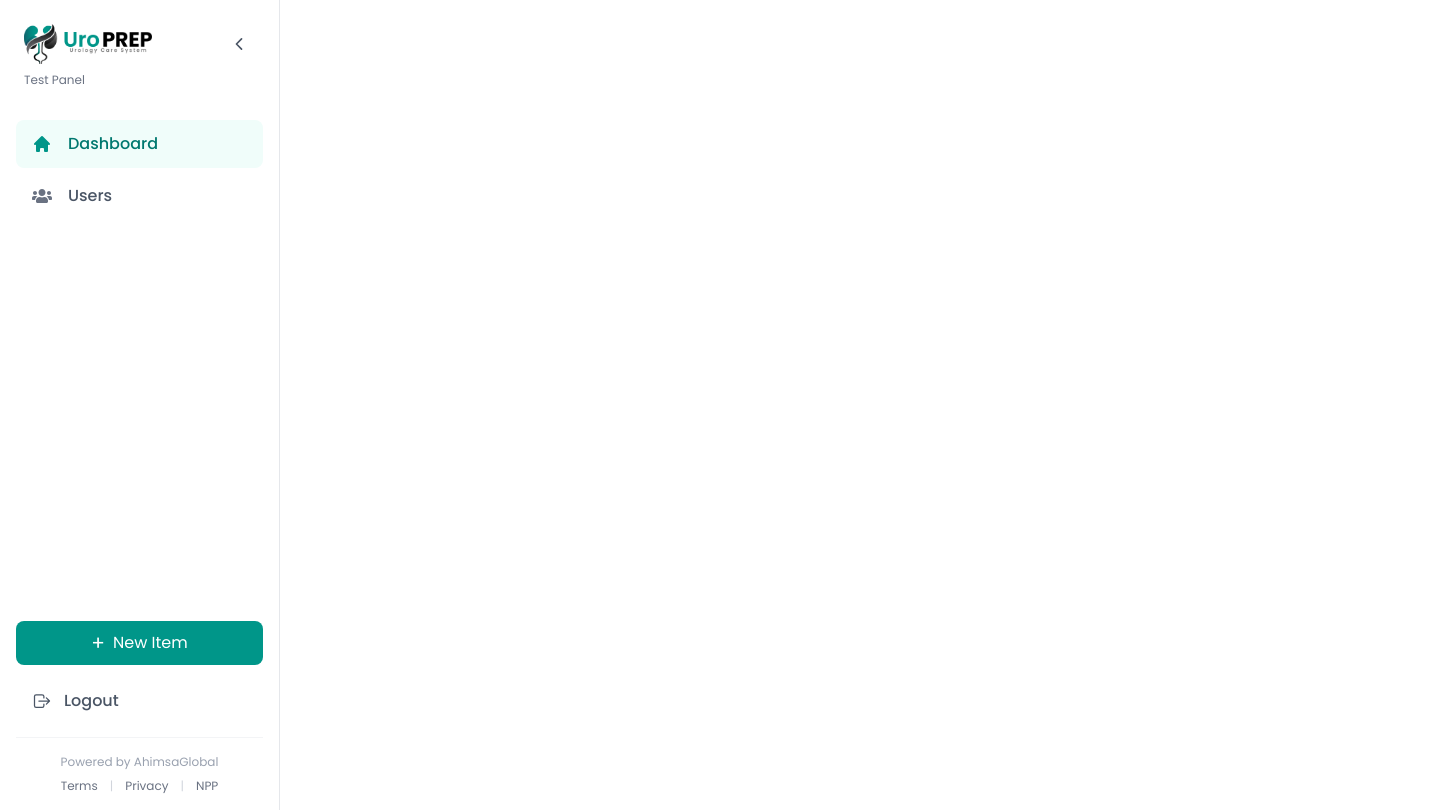
it: BaseSidebar › closes NPP modal when close button is clicked
Click the button "NPP" at [207, 786], box [196,778,218,794]
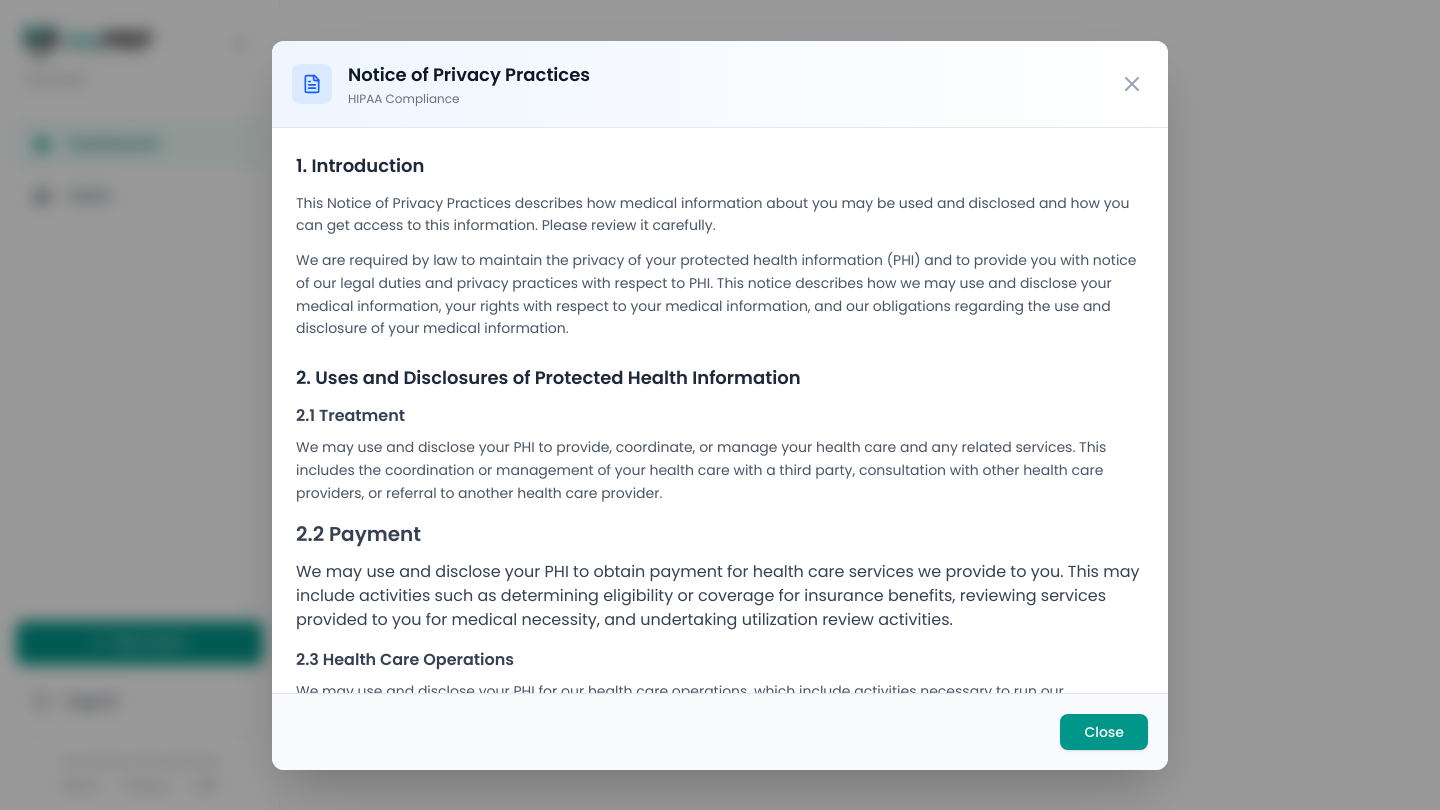
Expected: the heading "Notice of Privacy Practices" is shown, [348,60,590,88]
// Close modal
Click the button named "Close modal" at [1132, 84], box [1116,68,1148,100]
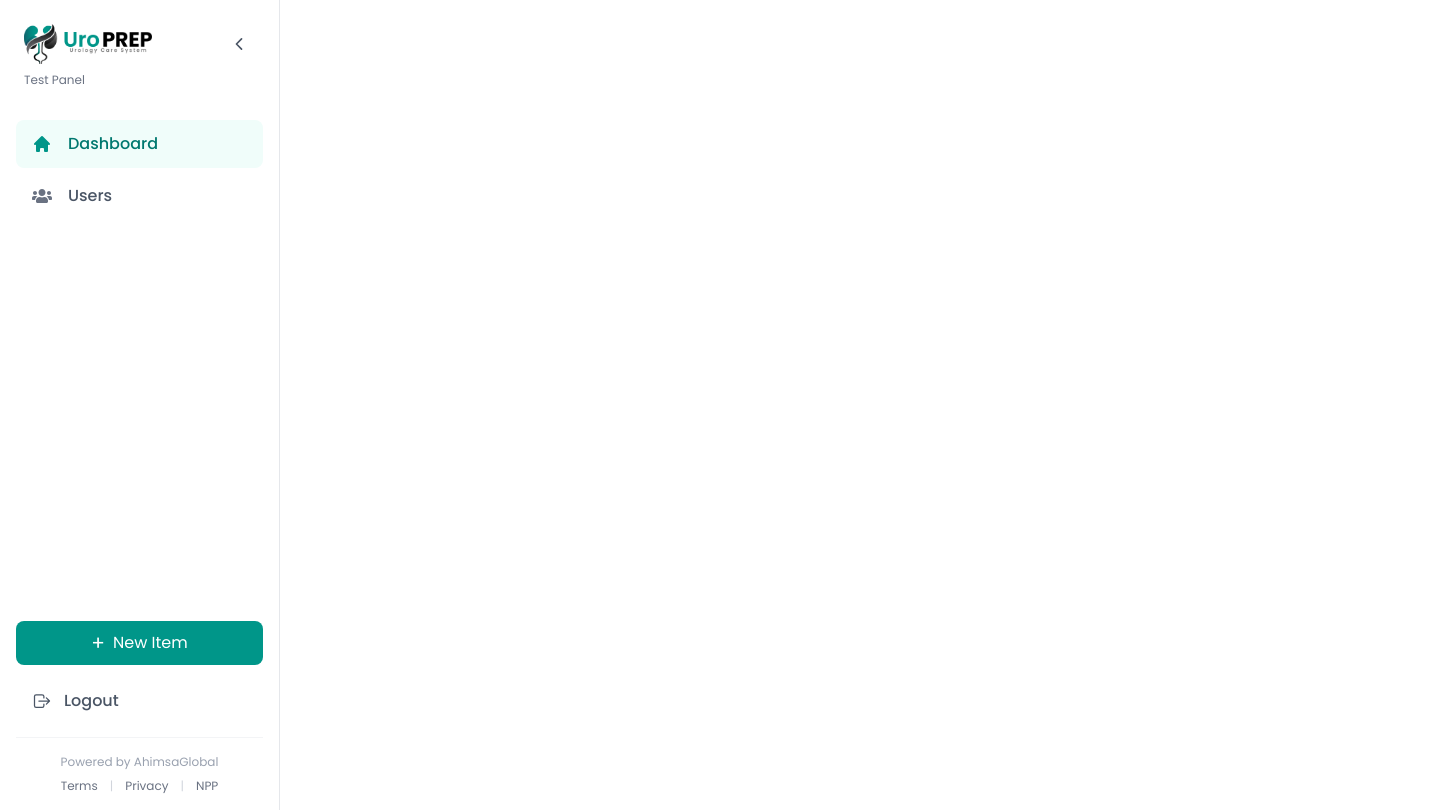
Expected: the heading "Notice of Privacy Practices" is gone
